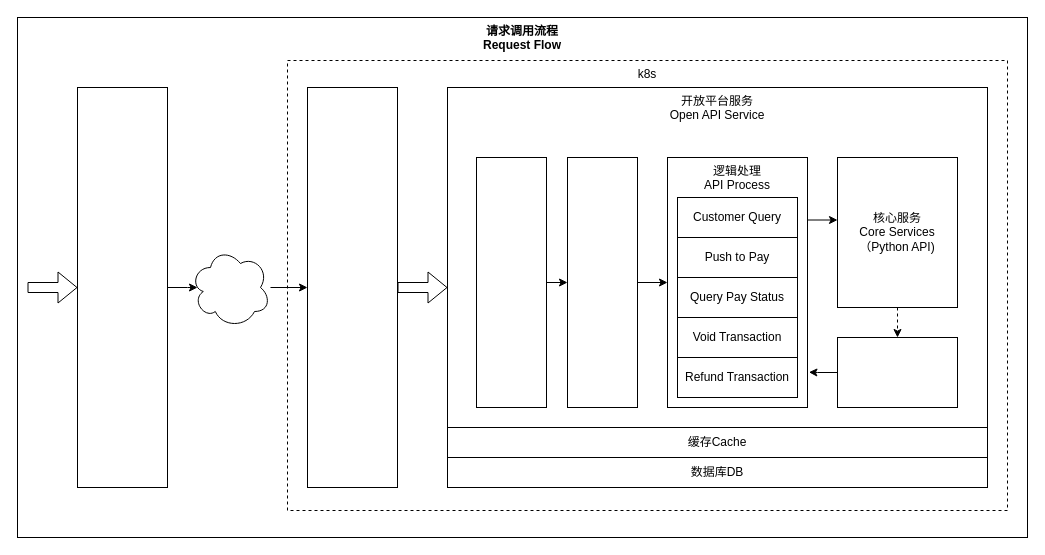
The diagram is 1045 pixels wide and 555 high, and some of its shapes have lost their labels. The shapes that lost their labels are listed below. From the top down, each one's centre as x and y in pixels, then its label:
At (x=122, y=287): "商户平台后台 Merchant".
At (x=230, y=287): "public network".
At (x=352, y=287): "Kong Gateway 网关".
At (x=511, y=282): "授权 AppToken".
At (x=602, y=282): "验签 Verify Sign".
At (x=897, y=372): "消息中间件 MQ".
